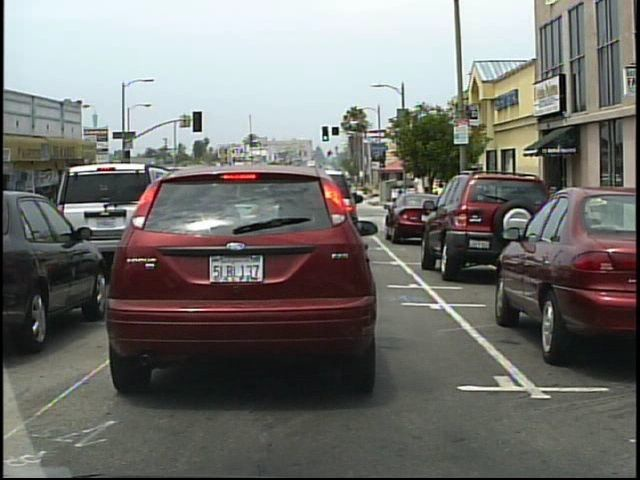person: (399, 186, 410, 217), (396, 187, 405, 218)
